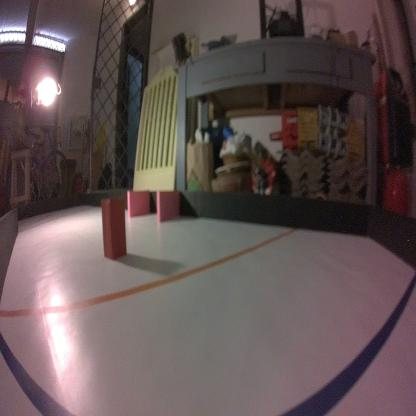magenta: (154, 188, 182, 224), (126, 188, 150, 216)
red: (100, 195, 127, 265)
